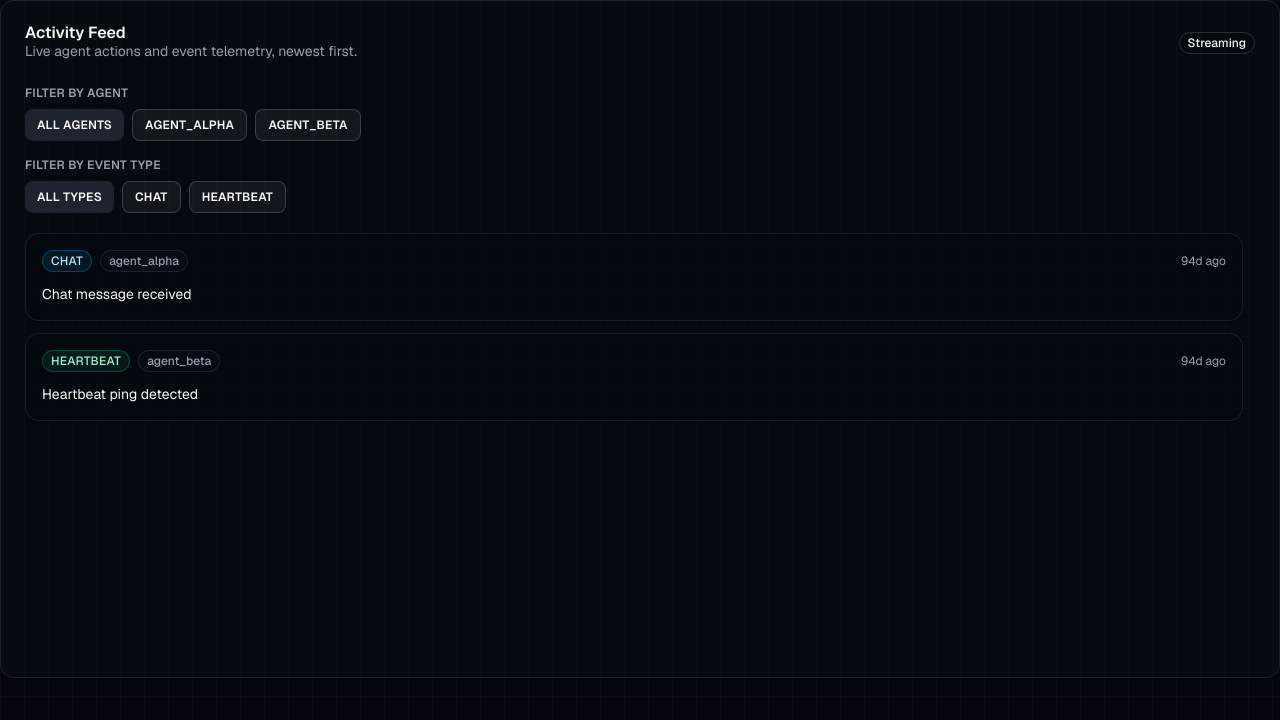
ActivityFeed › filters by agent and event type
Click the button "agent_beta". click: (308, 125)
box: x1=255 y1=109 x2=361 y2=141
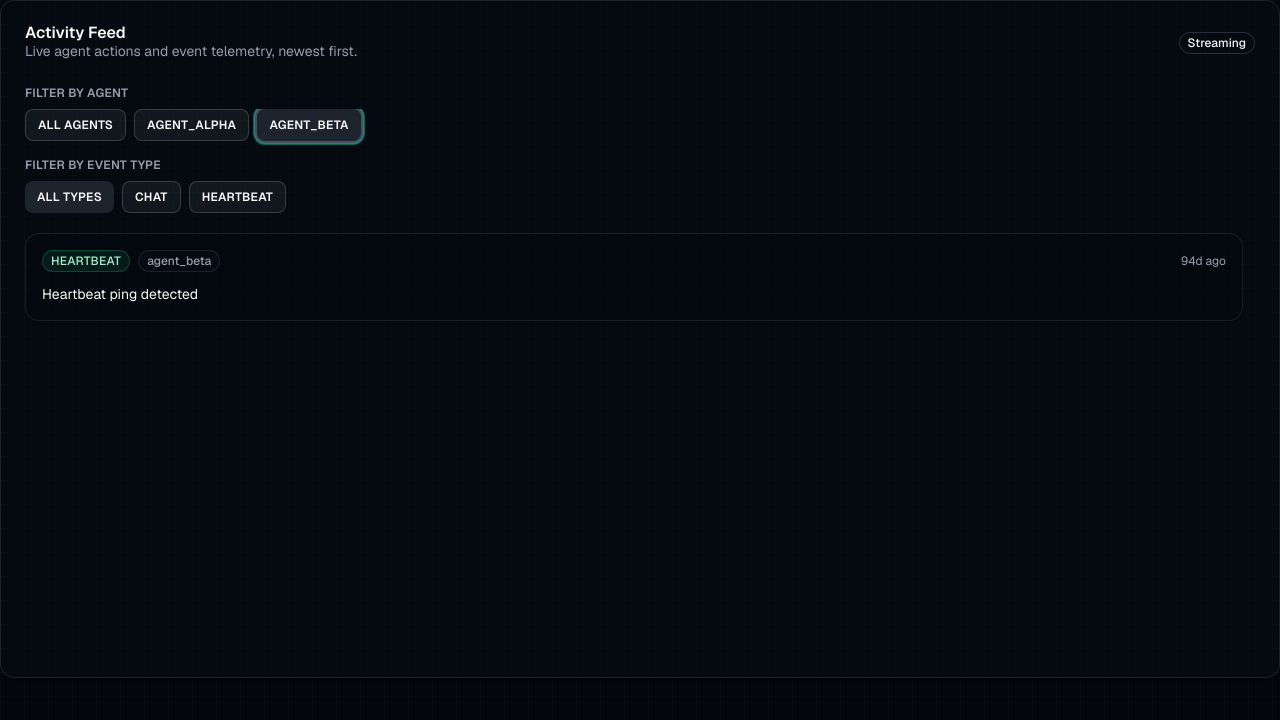
Check: the text "Heartbeat ping detected" is shown, box x1=42 y1=285 x2=198 y2=303
Check: the text "Chat message received" is gone
Click the button "All agents". click: (76, 125)
box: x1=25 y1=109 x2=126 y2=141
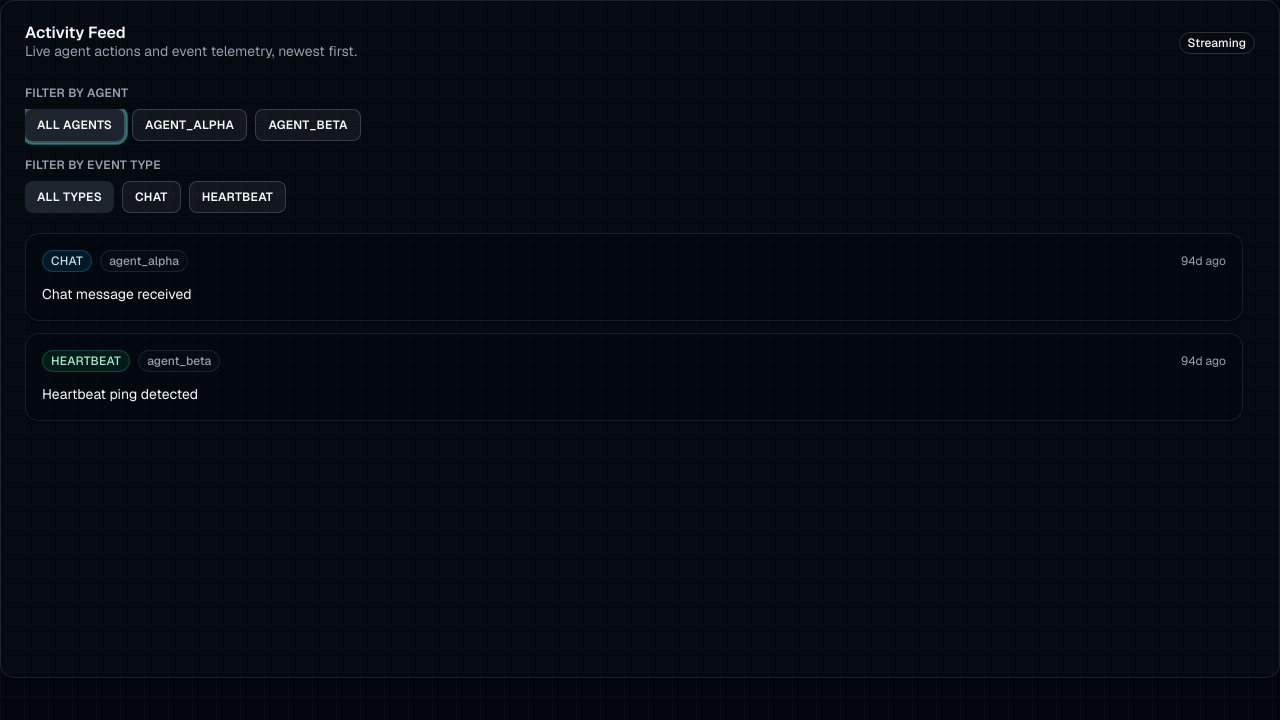
Click the button "Chat". click: (151, 197)
box: x1=122 y1=181 x2=181 y2=213
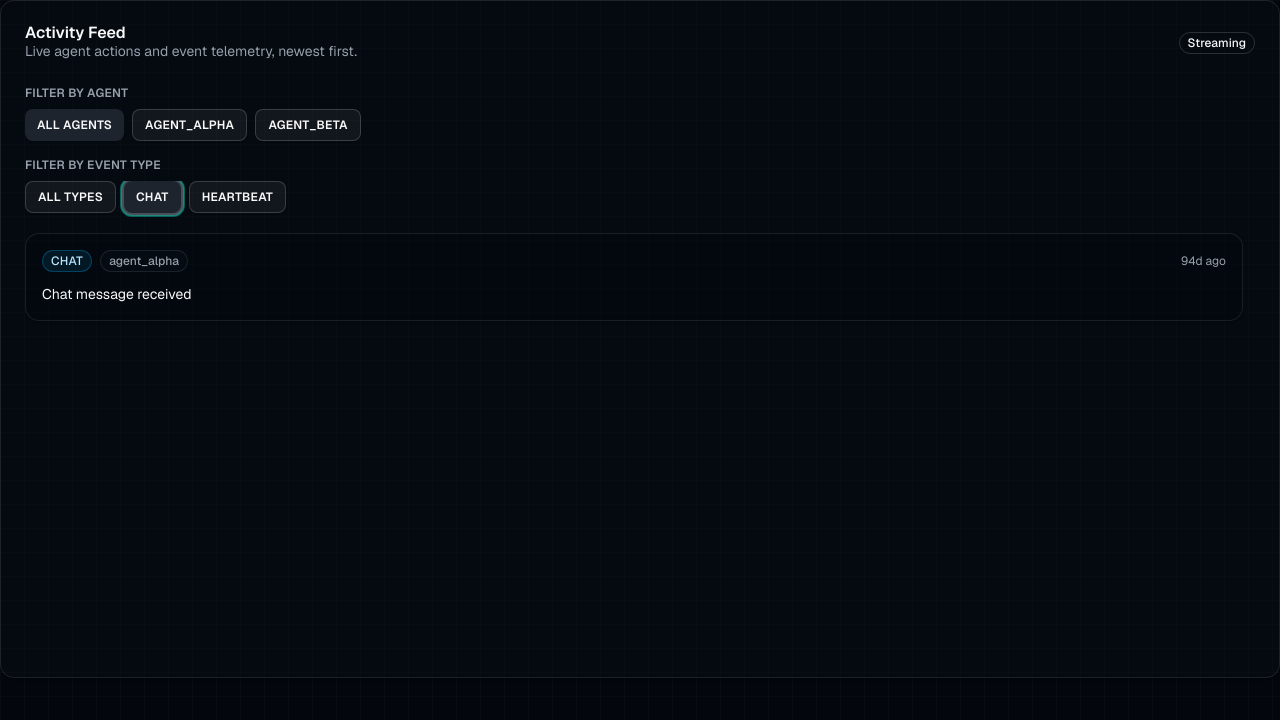
Check: the text "Chat message received" is shown, box x1=42 y1=285 x2=192 y2=303
Check: the text "Heartbeat ping detected" is gone
